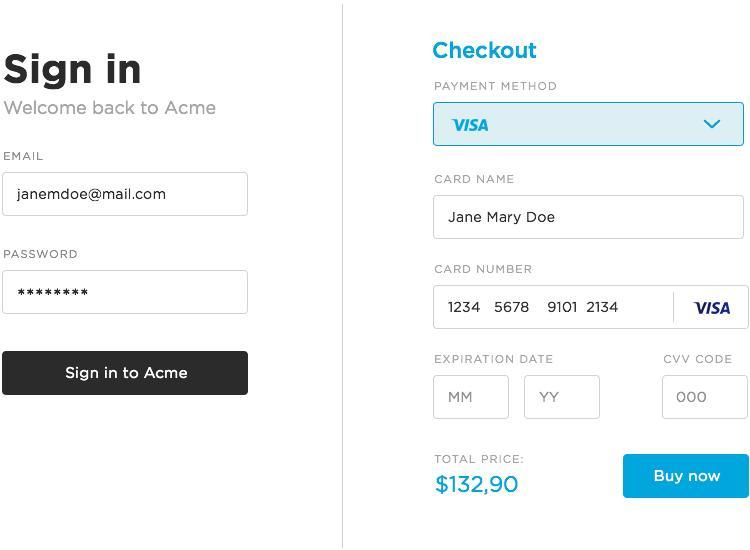button: (3, 351, 249, 395), (623, 454, 748, 498)
dropdown: (435, 104, 745, 146)
input: (436, 195, 750, 240), (3, 171, 251, 218), (5, 271, 248, 318), (436, 285, 677, 329), (665, 375, 747, 418), (526, 375, 602, 421), (432, 379, 511, 419)
label: (5, 50, 147, 89), (426, 35, 551, 66), (433, 77, 568, 94), (433, 353, 557, 370), (3, 245, 84, 268), (432, 173, 524, 192), (430, 265, 543, 279), (663, 350, 737, 369), (5, 147, 46, 167)
